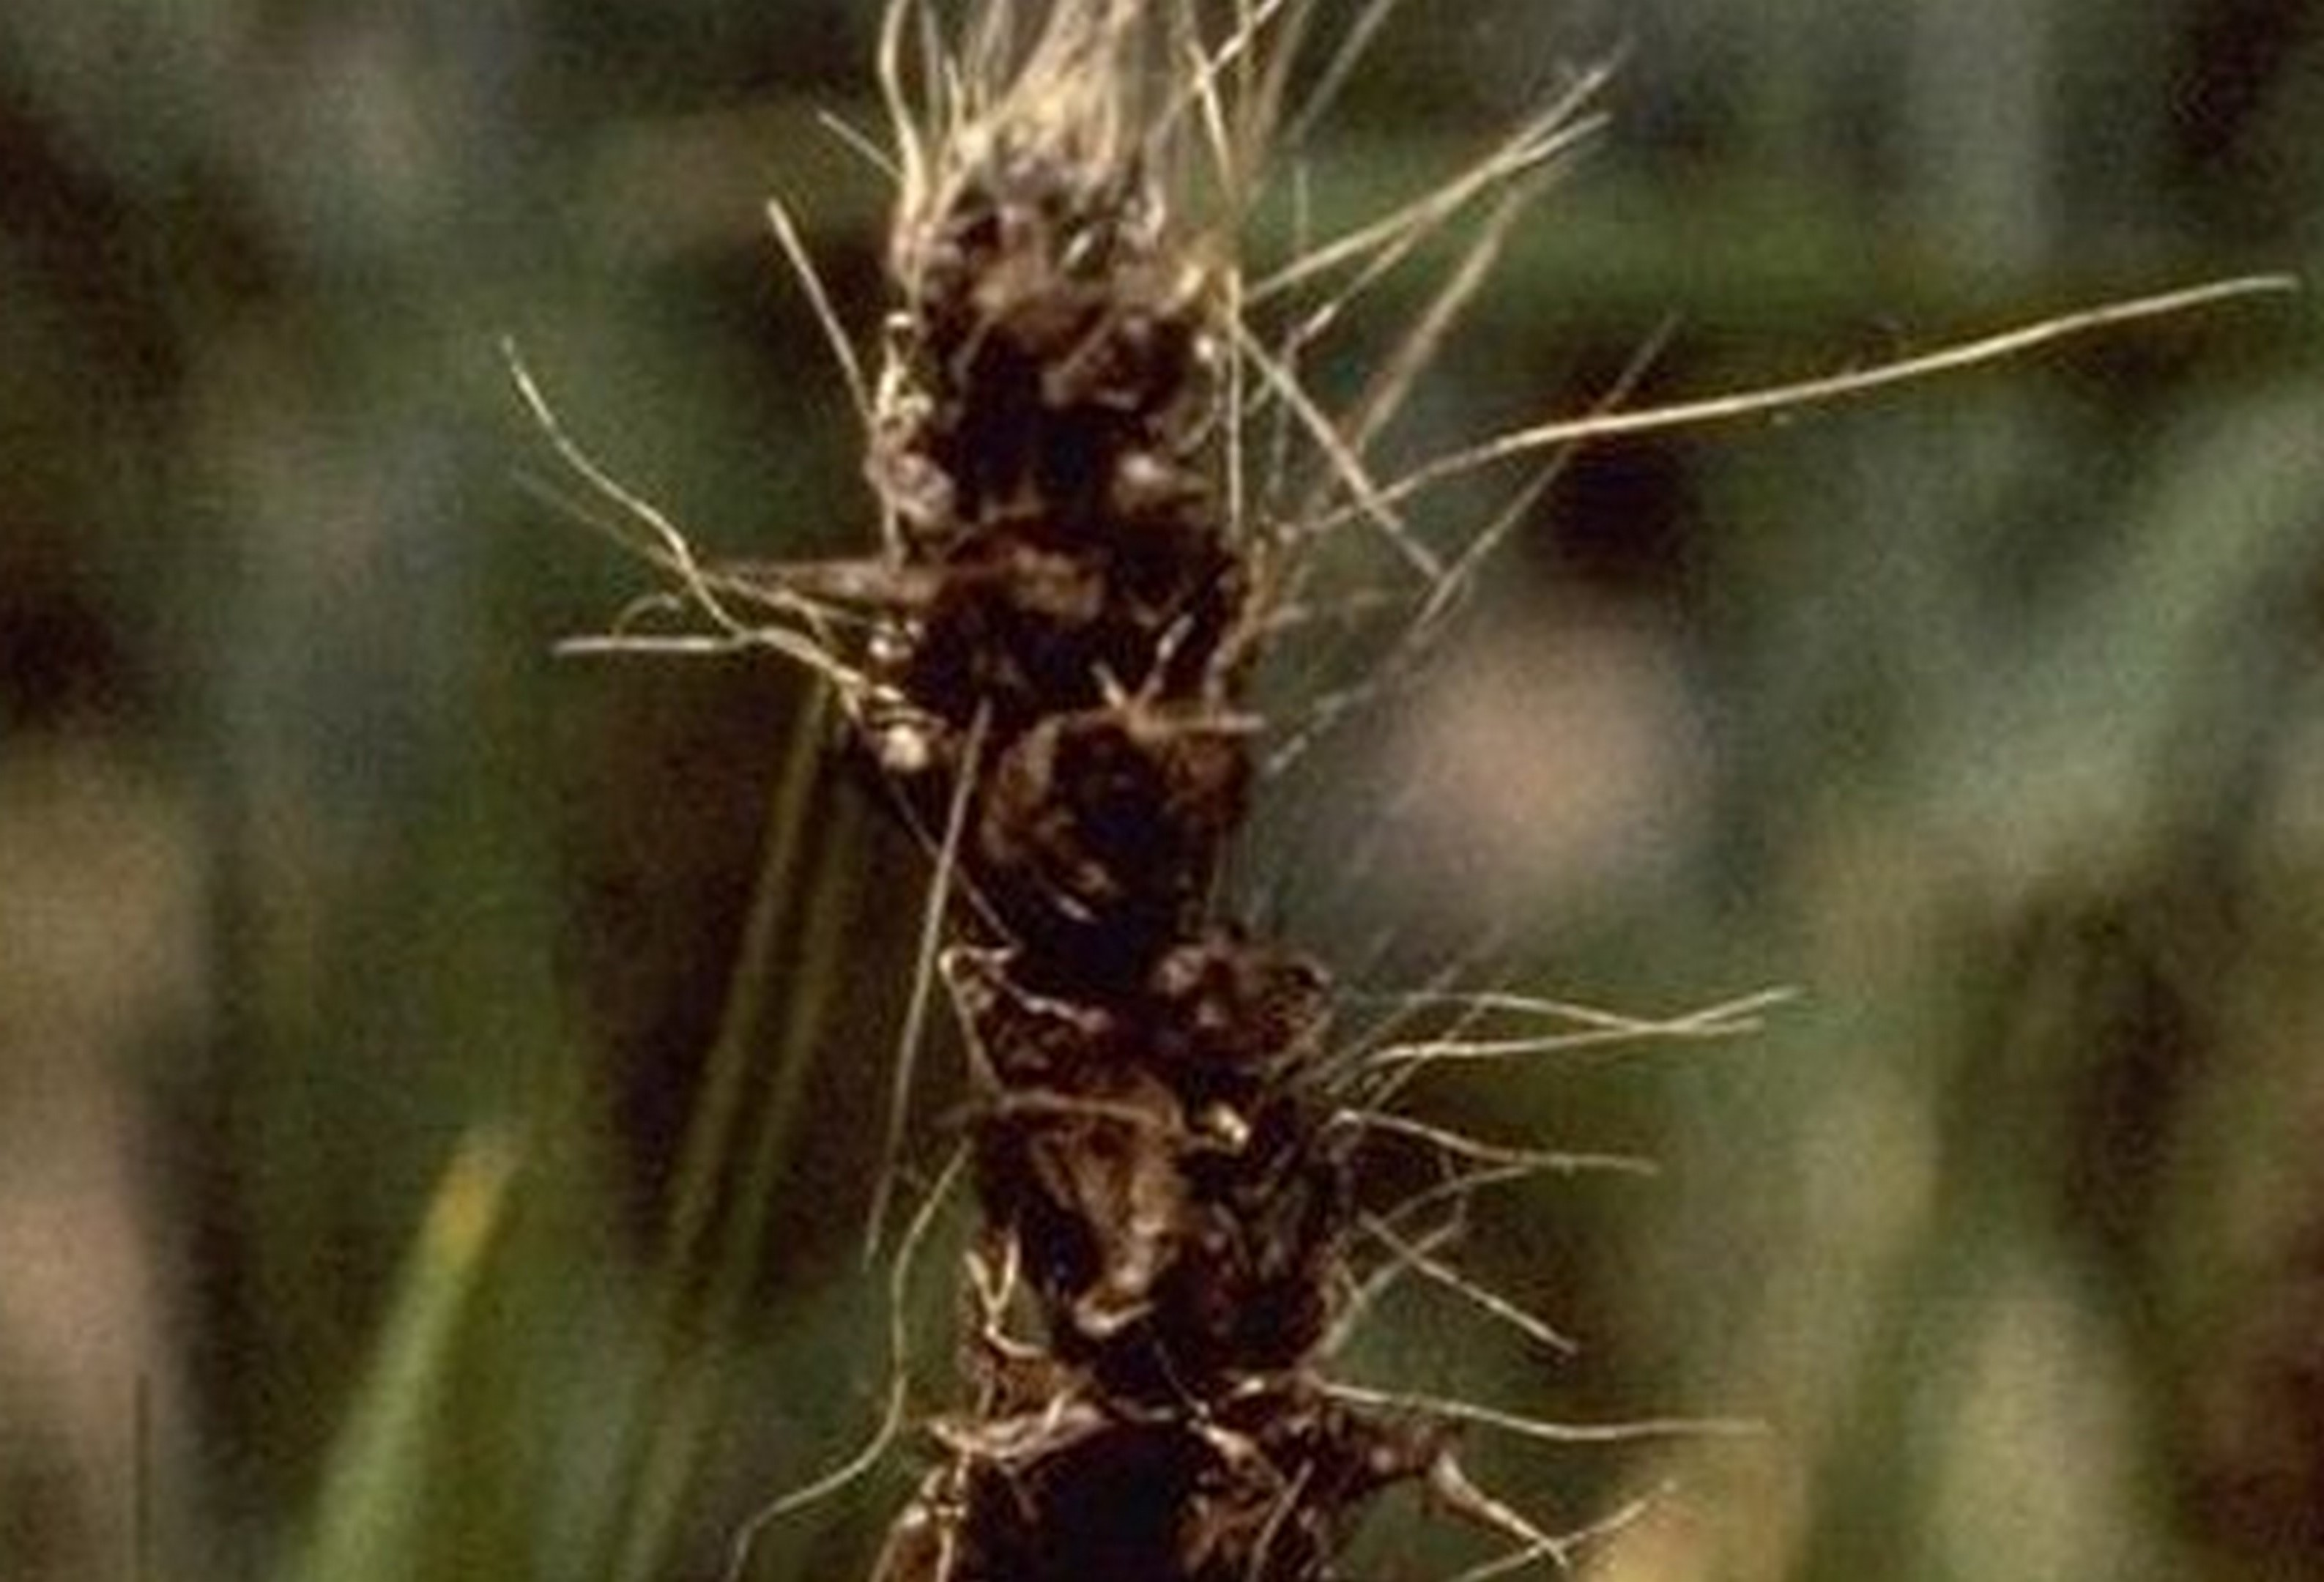Wheat Loose Smut: (823, 150, 1439, 1566)
